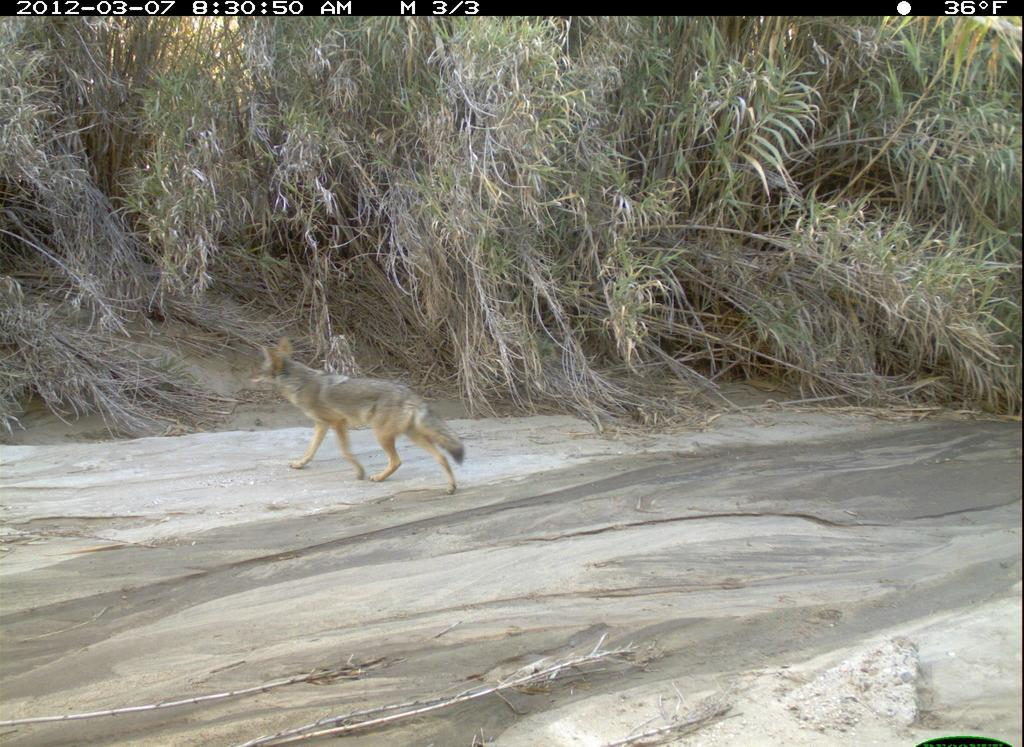coyote: (249, 331, 479, 506)
